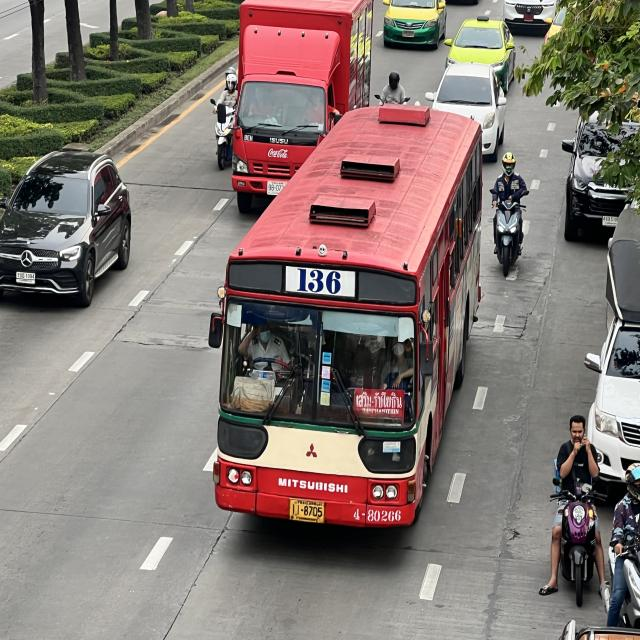BMTA-bus: (207, 104, 483, 532)
Bus-Line-Number: (284, 266, 359, 302)
Destination-Sign-Extra-Bus: (351, 384, 409, 428)
